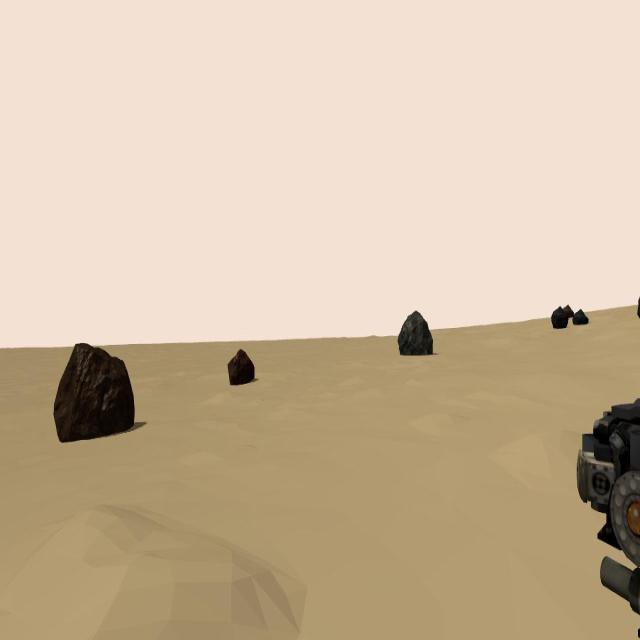rock: (53, 344, 135, 444), (397, 310, 433, 354), (227, 349, 255, 386), (550, 305, 568, 330), (574, 308, 588, 324), (563, 304, 573, 319)
